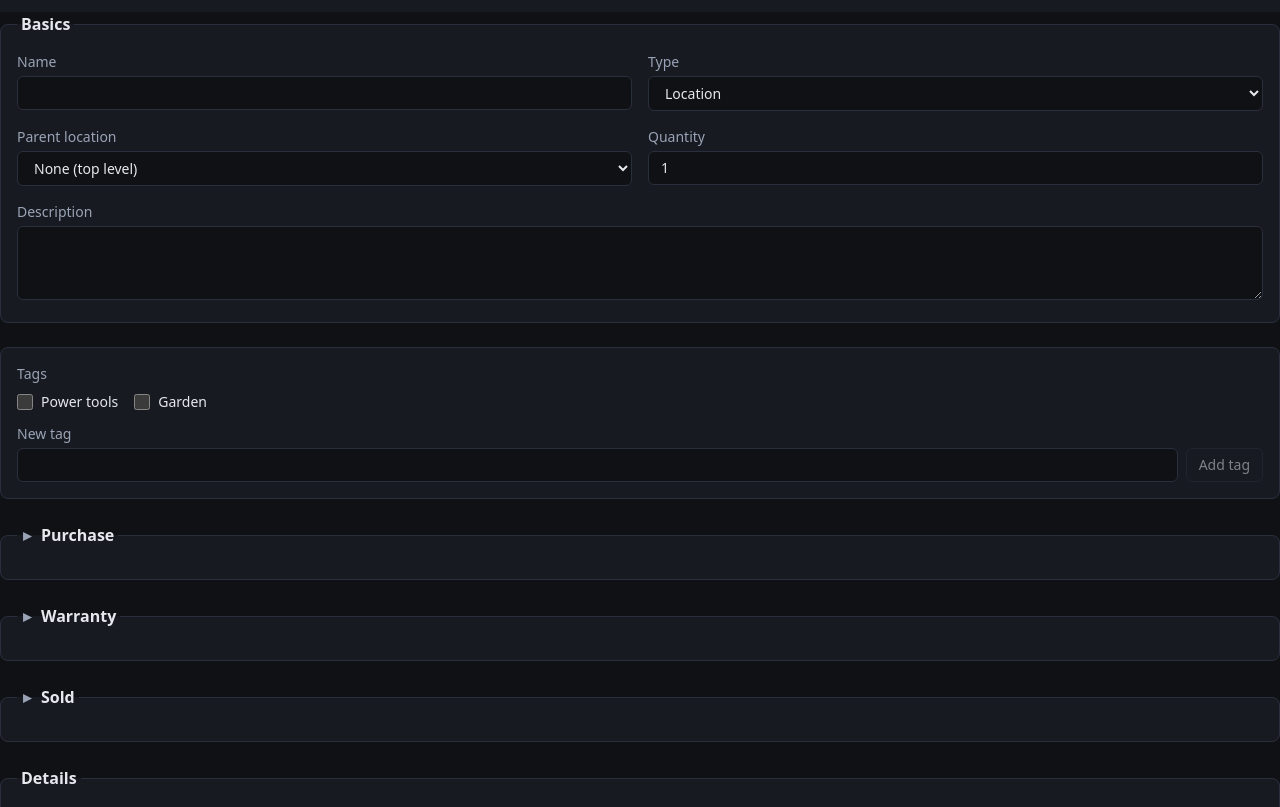
Scenario: EntityForm › collapsible sections › expands them for an item type, following a change of type
Check: the checkbox labelled "Garden" is shown, box [134,394,150,410]
Select "Tool" in the dropdown labelled "Type". click: {"x": 956, "y": 94}
box: [648,76,1263,111]
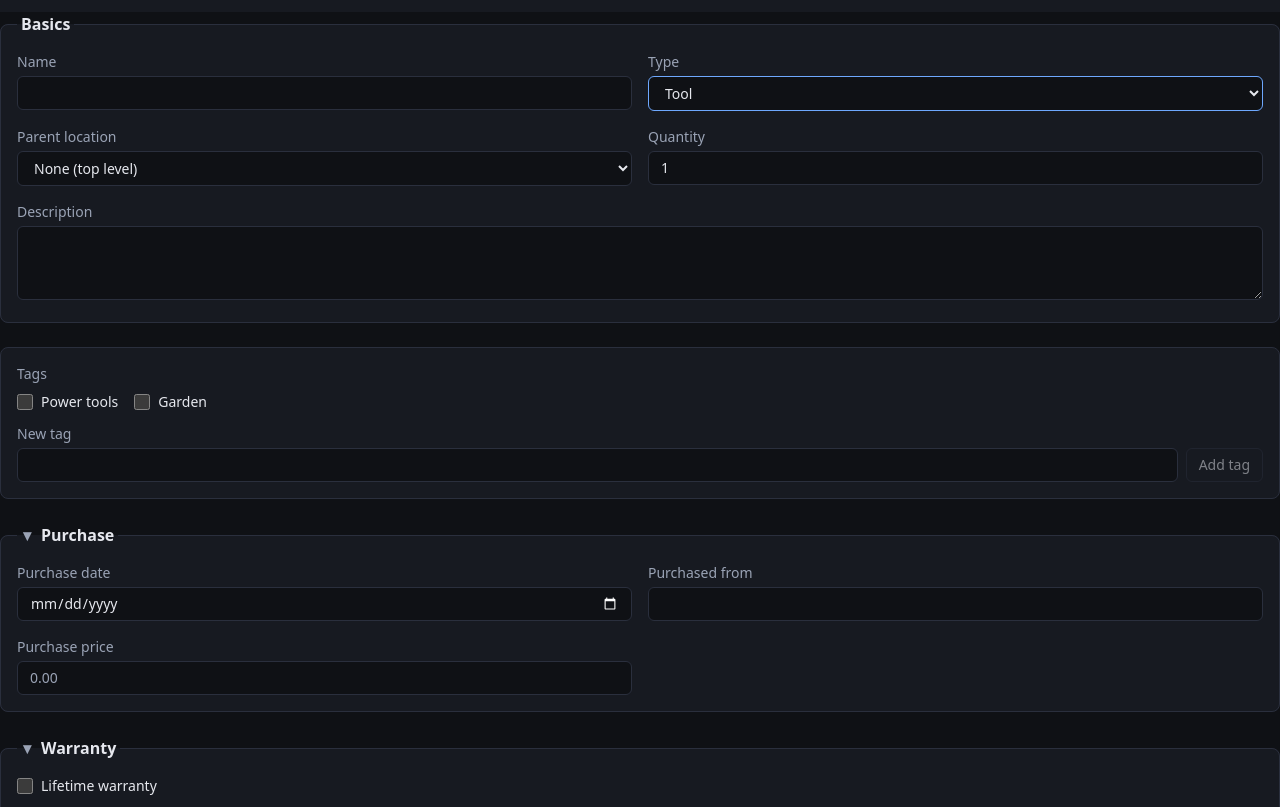
Check: the button "▾ Purchase" is expanded, box [21,523,114,547]
Check: the button "▾ Warranty" is expanded, box [21,736,116,760]
Check: the field labelled "Purchase price" is shown, box [17,661,632,695]
